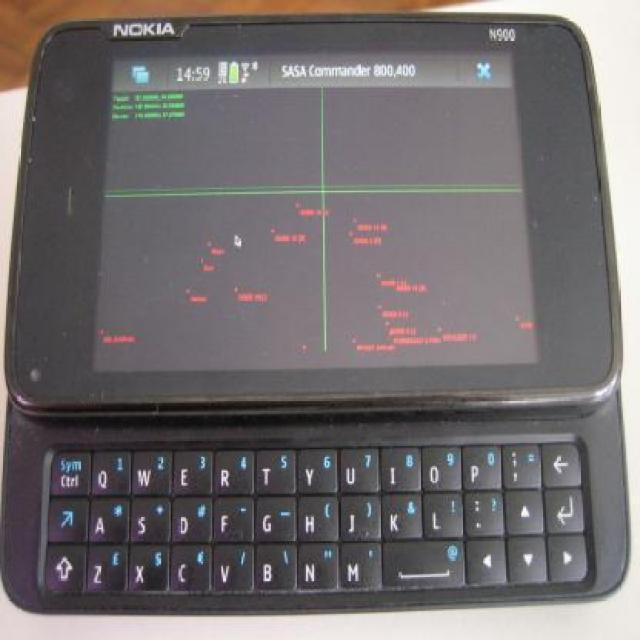phone: (0, 9, 632, 608)
